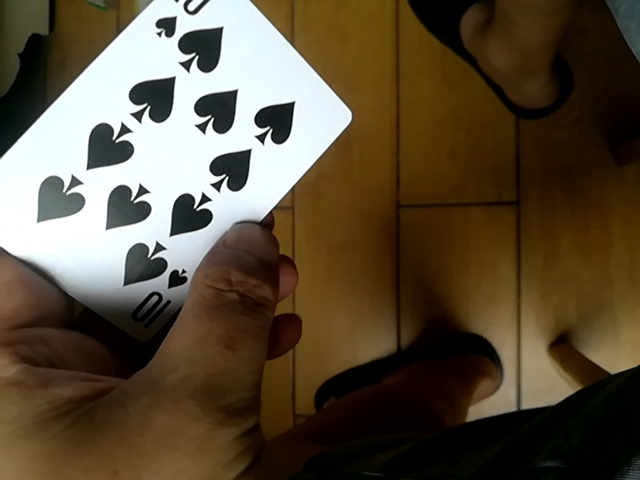ht 10: (6, 1, 352, 332)
